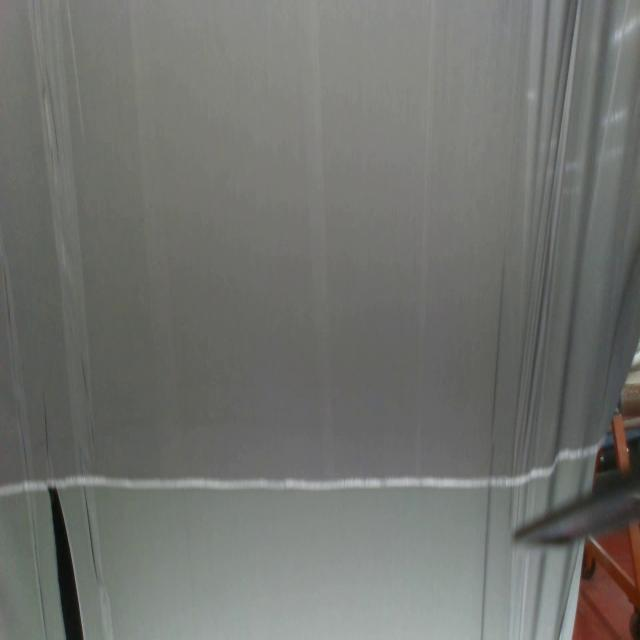crease: (30, 5, 96, 443), (2, 262, 48, 640), (476, 256, 510, 632)
hole: (50, 484, 86, 640)
